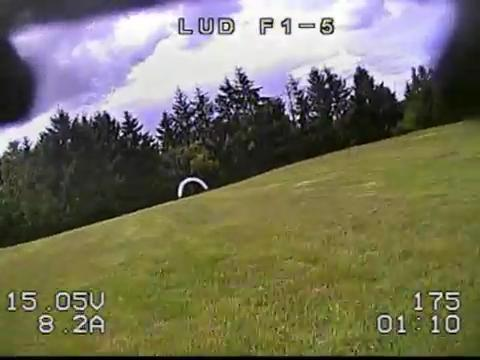gate: (176, 176, 209, 198)
